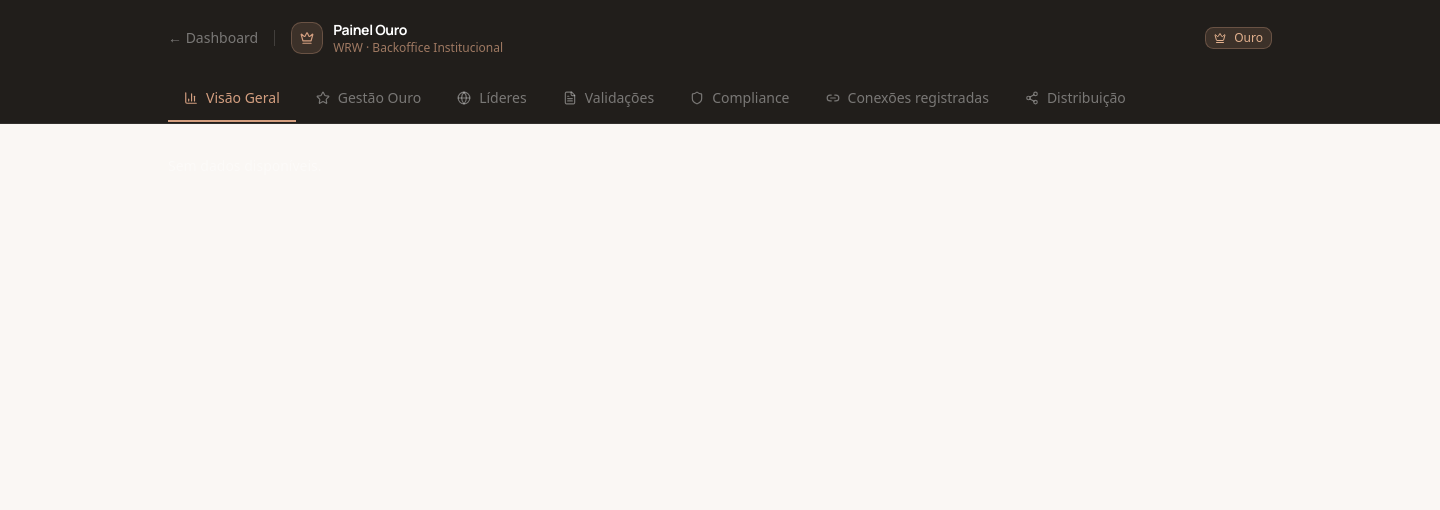
Test: aba Distribuição para Ouro/presidente/admin — Quem distribui › candidatas vêm de president.listAllUsers e quem já distribui sai da lista
Click the button "Distribuição" at {"x": 1075, "y": 99}, box x1=1009 y1=76 x2=1142 y2=122
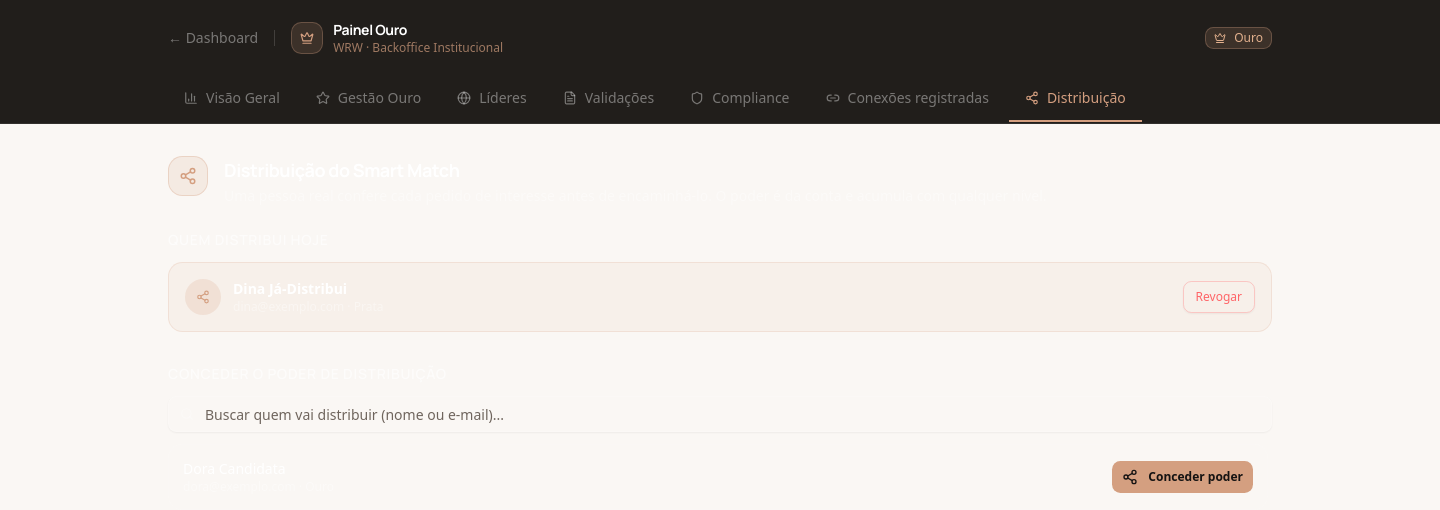
Result: the number of buttons "Conceder poder" is 1 at x1=1112 y1=461 x2=1253 y2=493
